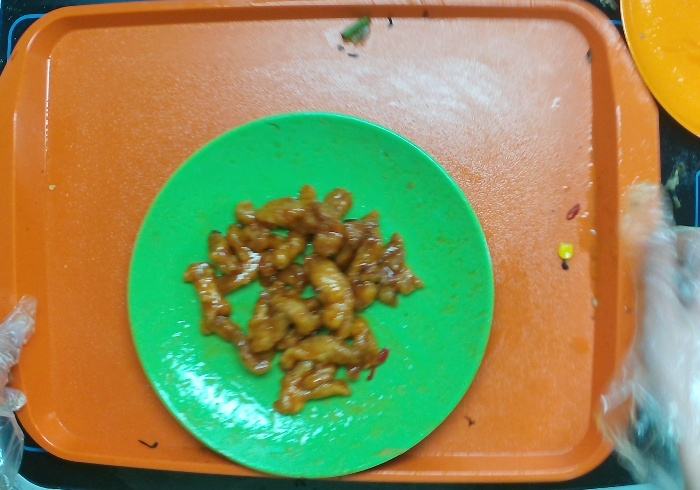HZYJPL-Lv_Se_Yuan_Pan: (128, 110, 495, 482)
